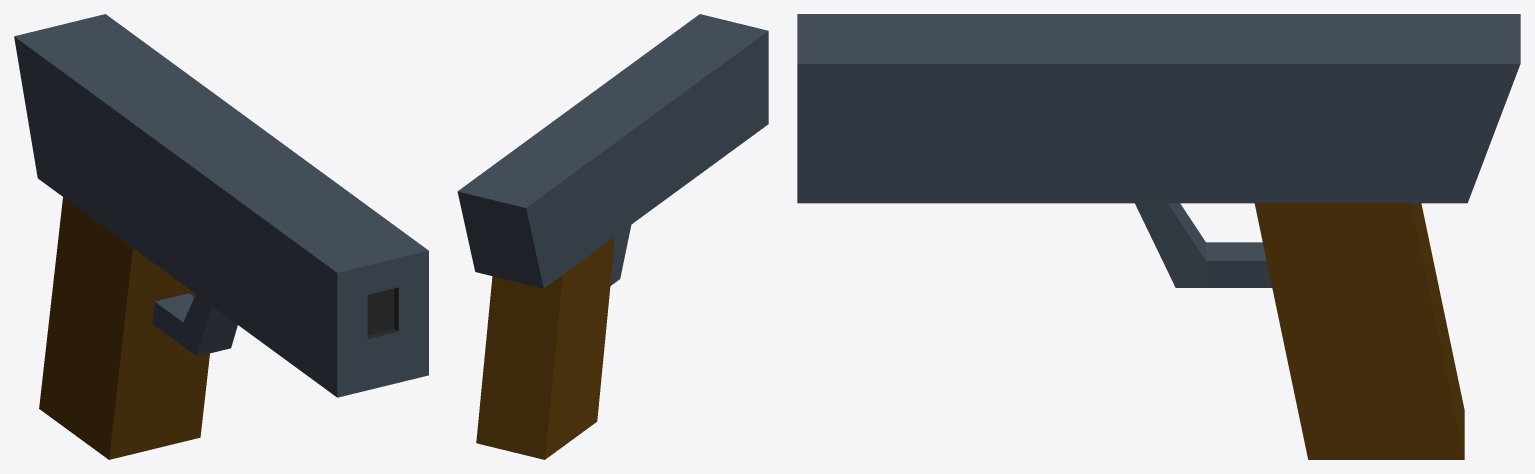
Rendered from Pistol.fbx.
3 renders of one model, left to right at view 1: azimuth 30°, elevation 25°; view 2: azimuth 150°, elevation 25°; view 3: azimuth 270°, elevation 25°, orthographic. The views are drawn at different scales.
Visible parts, largest first — view 1: Pistol; view 2: Pistol; view 3: Pistol.
Part boxes in pixels (x1,y1,x2,y2): Pistol: (14,14,428,459); Pistol: (457,14,768,459); Pistol: (797,14,1520,459).
Size of the model in its own units: 0.1147 by 0.4242 by 0.7019.
